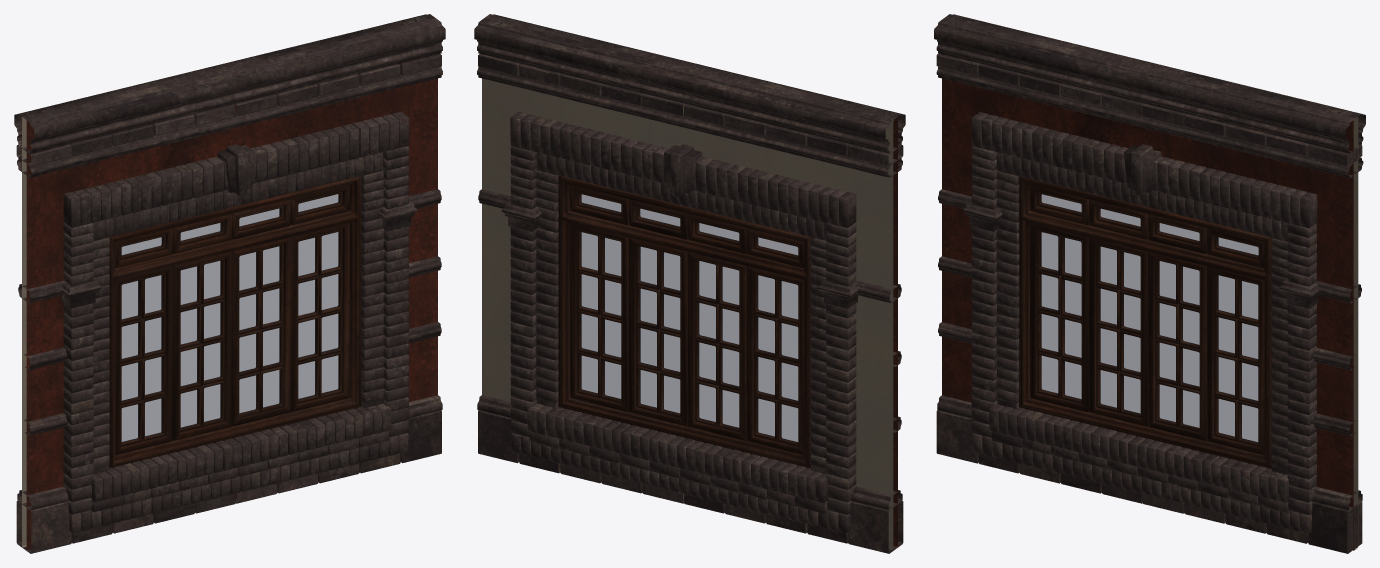
Rendered from SK2 WINDOW 3.fbx.
3 renders of one model, left to right at view 1: azimuth 30°, elevation 25°; view 2: azimuth 150°, elevation 25°; view 3: azimuth 330°, elevation 25°, orthographic.
Parts seen in each view (by area): view 1: SK2 WINDOW 3.011; view 2: SK2 WINDOW 3.011; view 3: SK2 WINDOW 3.011.
Part boxes in pixels (bbox=[...]): SK2 WINDOW 3.011: bbox=[14, 14, 445, 553]; SK2 WINDOW 3.011: bbox=[474, 14, 905, 553]; SK2 WINDOW 3.011: bbox=[934, 14, 1365, 553].
Bounding box in the file's own units: 400 × 400 × 48.22.
